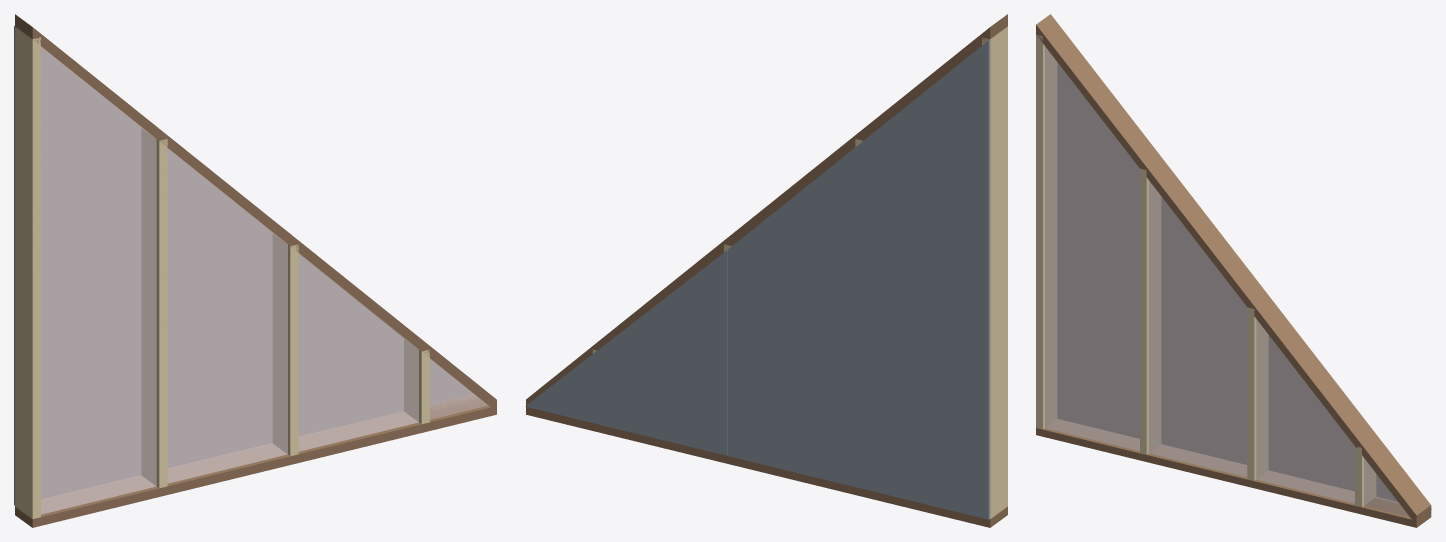
Rendered from EX3_GBL.glb.
3 views of the same model, side by side, from view 1: azimuth 30°, elevation 25°; view 2: azimuth 150°, elevation 25°; view 3: azimuth 330°, elevation 25° (orthographic). The views are drawn at different scales.
Visible parts, largest first — view 1: EX3 GBL; view 2: EX3 GBL; view 3: EX3 GBL.
Part boxes in pixels (left/top/right/bottom): EX3 GBL: left=14, top=14, right=496, bottom=527; EX3 GBL: left=525, top=14, right=1007, bottom=527; EX3 GBL: left=1036, top=14, right=1431, bottom=527.
Bounding box in the file's own units: 2.12 × 2.19 × 0.149.
